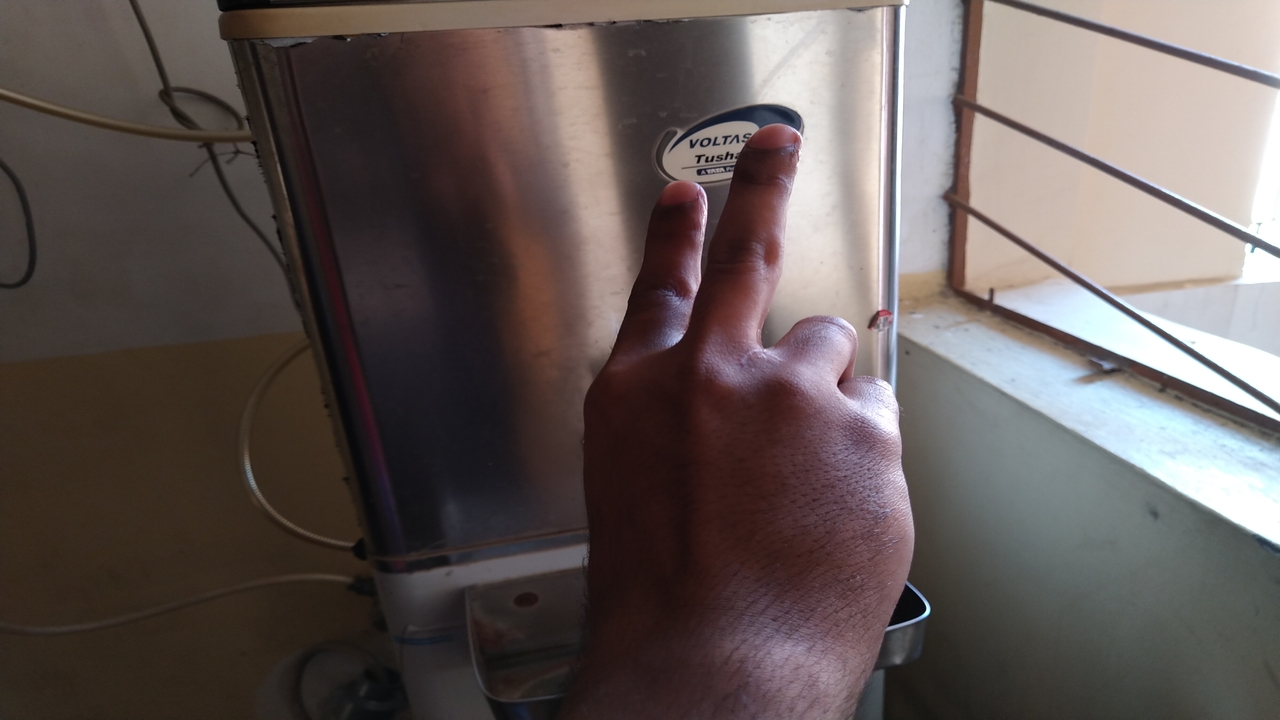fingertip: (747, 122, 803, 165), (652, 172, 700, 220)
